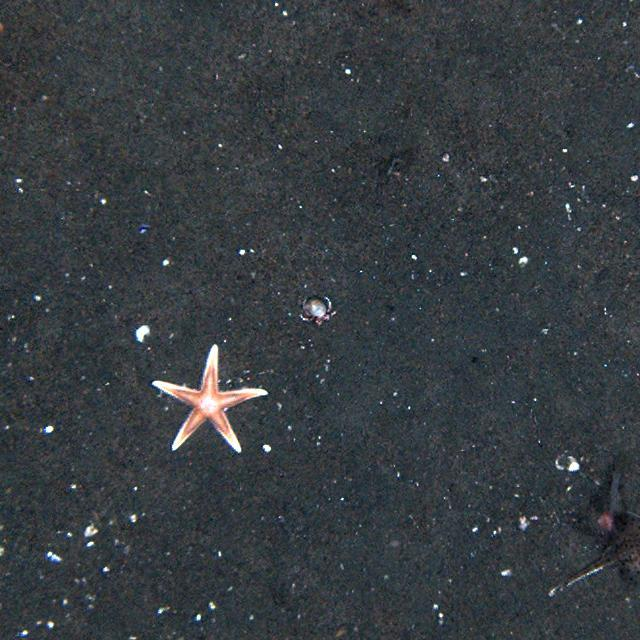crab: (299, 294, 337, 326)
